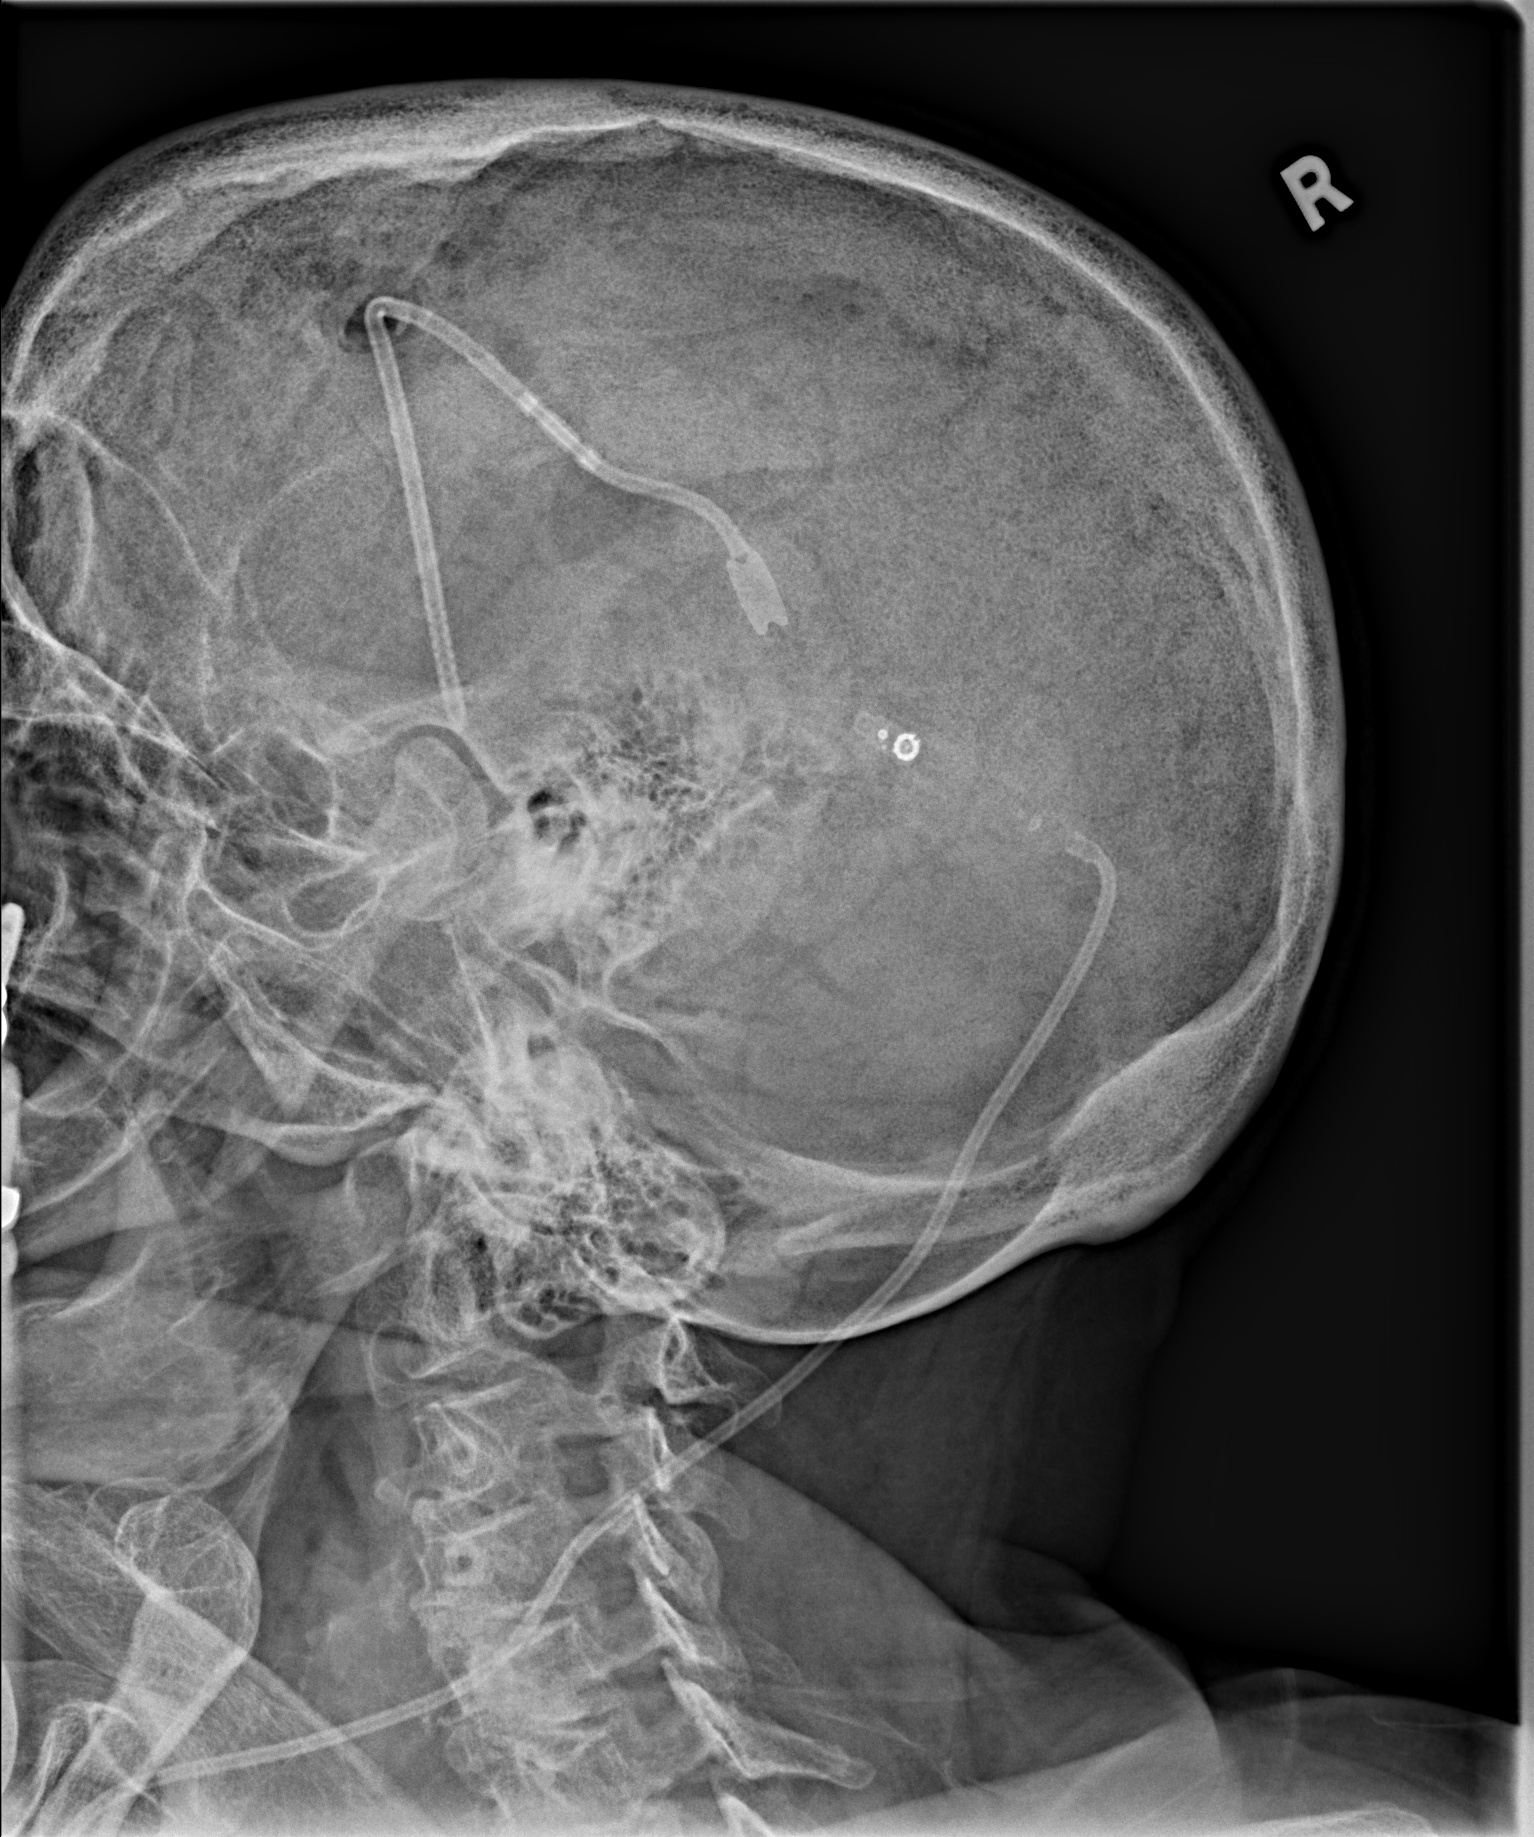Codman Hakim: (856, 706, 936, 774)
